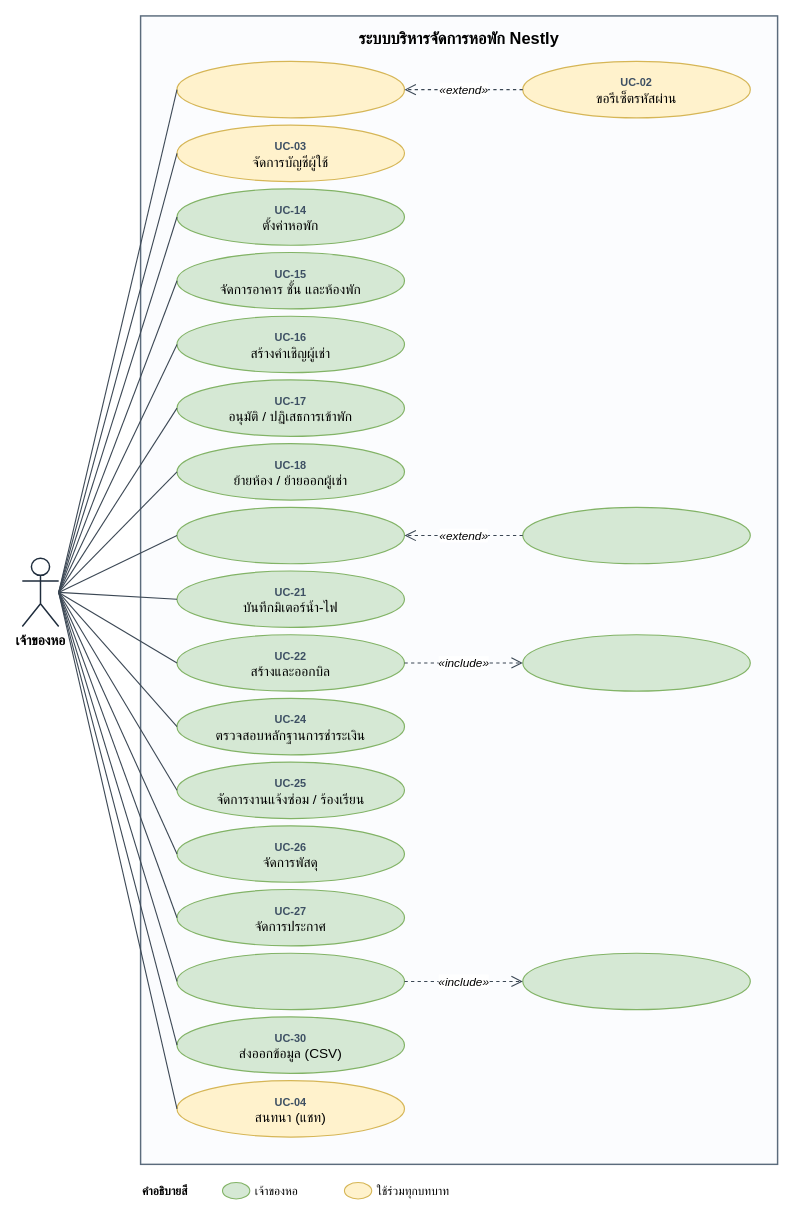
This 794x1218 diagram has some shape labels left out. Each missing label, with the centre of its shape:
"UC-01 เข้าสู่ระบบ" goes at (290,89).
"UC-19 จัดการสัญญาเช่า" goes at (290,535).
"UC-20 อัปโหลดสัญญาฉบับลงนาม" goes at (636,535).
"UC-23 ตรวจความพร้อมก่อนออกบิล" goes at (636,662).
"UC-28 ซื้อ / ต่ออายุแพ็กเกจ" goes at (290,981).
"UC-29 ส่งหลักฐานชำระค่าแพ็กเกจ" goes at (636,981).
